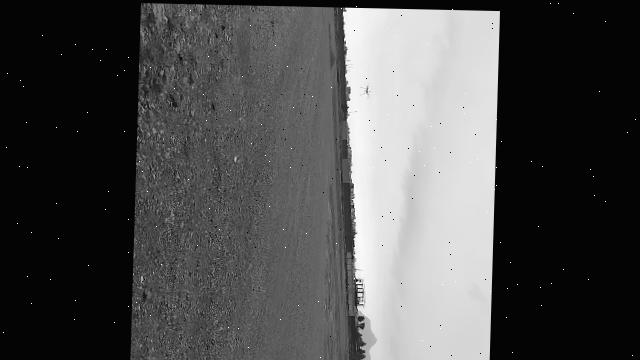drone: (360, 80, 372, 97)
